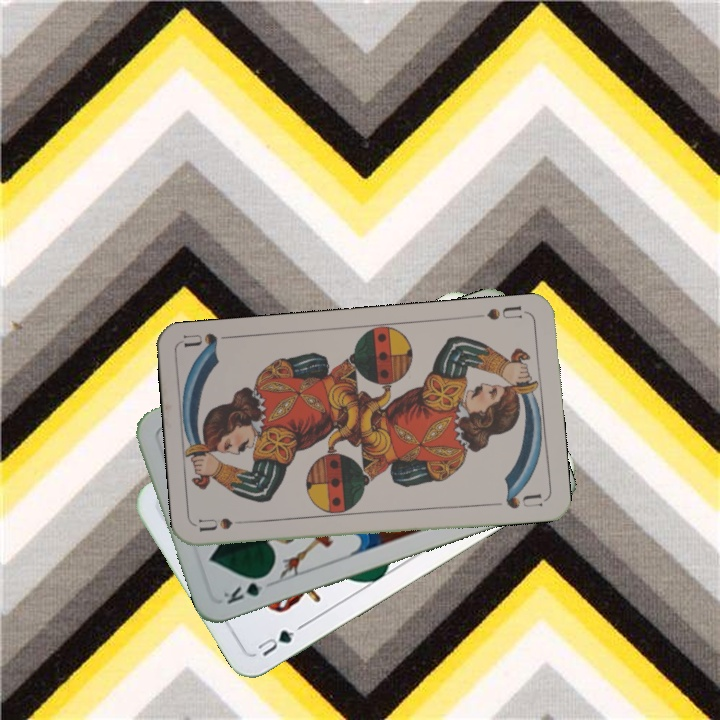GK: (219, 570, 272, 607)
GU: (251, 625, 297, 660)
SU: (483, 301, 524, 323), (196, 513, 235, 534)
